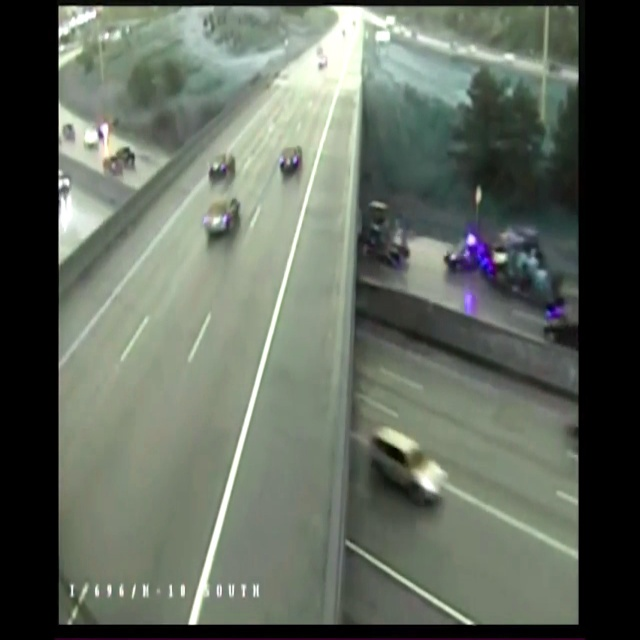acc: (444, 209, 567, 312)
